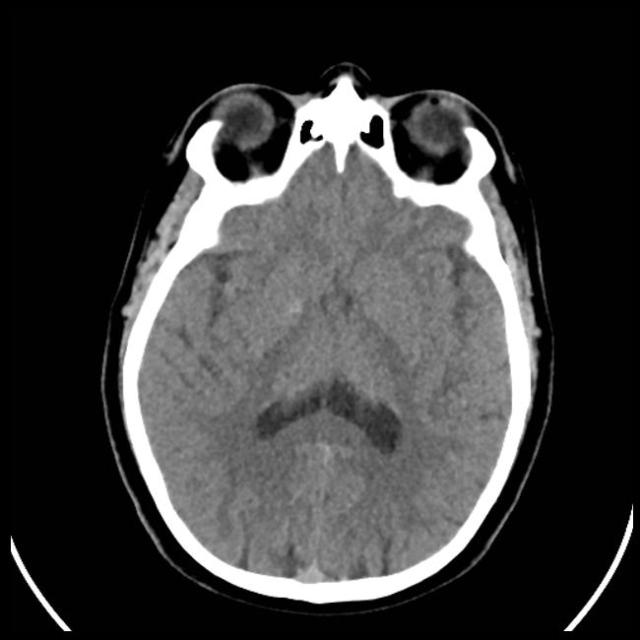lesion: (107, 62, 552, 600)
